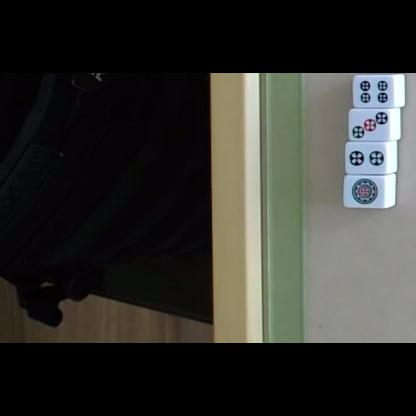1p: (352, 179, 378, 205)
2p: (349, 151, 384, 166)
3p: (352, 111, 388, 138)
4p: (359, 80, 389, 104)
